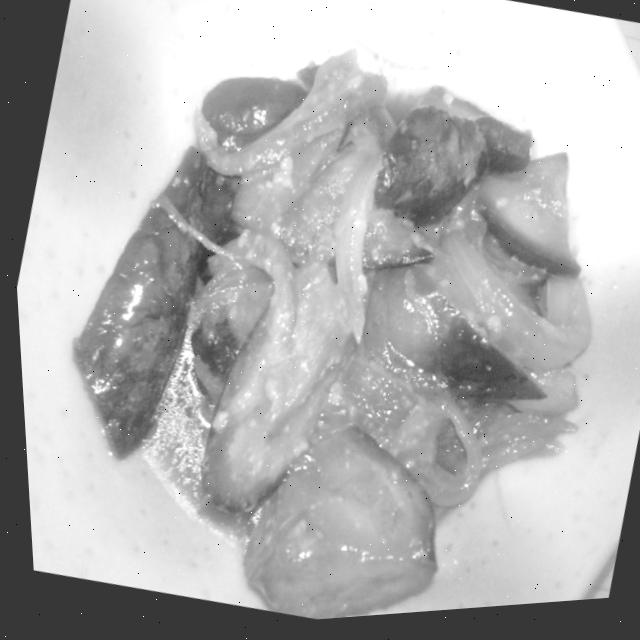鸡蛋料理: (7, 0, 640, 640)
